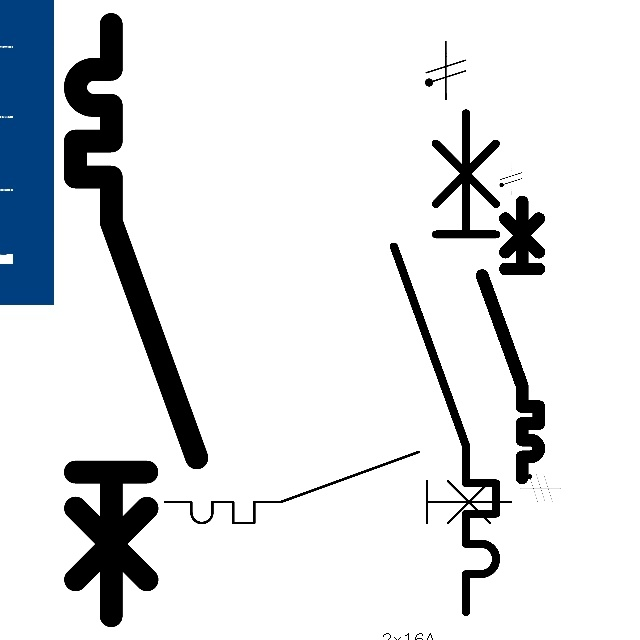interruptor_termomagnetico: (60, 9, 212, 630), (381, 100, 509, 624), (156, 443, 519, 532), (475, 194, 546, 484)
